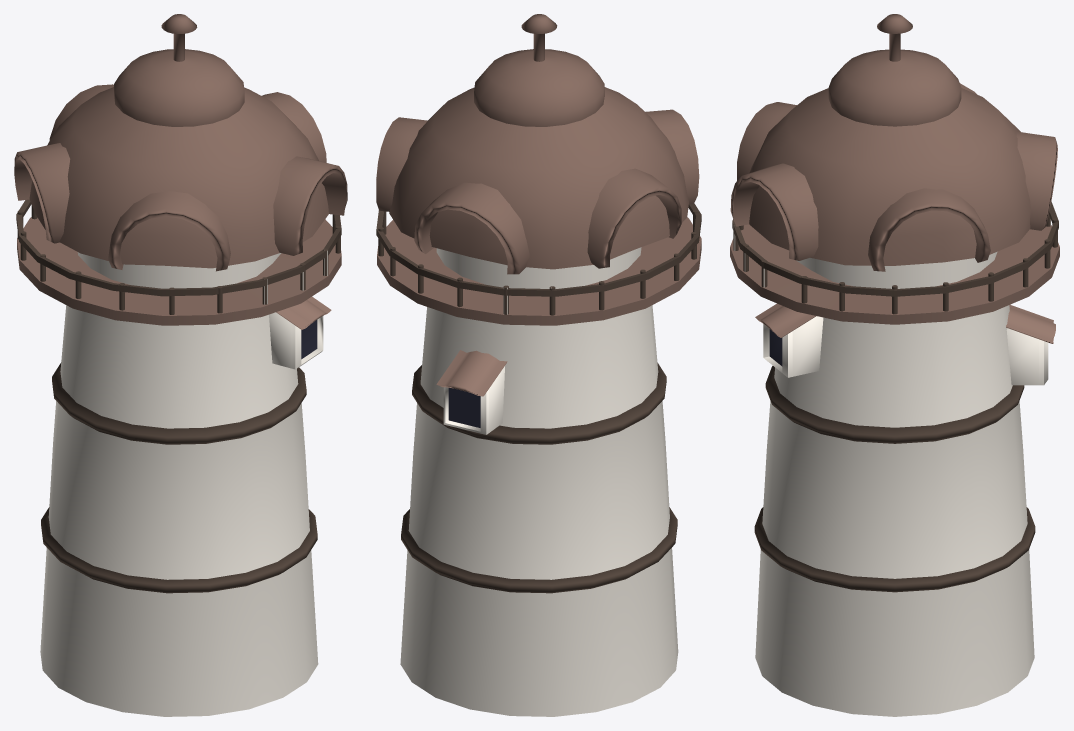
File: tower.fbx
The picture shows the model from 3 angles, left to right: view 1: azimuth 30°, elevation 25°; view 2: azimuth 150°, elevation 25°; view 3: azimuth 270°, elevation 25°; orthographic projection.
Parts seen in each view (by area): view 1: pCylinder34; view 2: pCylinder34; view 3: pCylinder34.
Part boxes in pixels (x1,y1,x2,y2): pCylinder34: (14,14,347,716); pCylinder34: (376,14,701,716); pCylinder34: (730,14,1059,716).
Bounding box in the file's own units: 3.37 × 7.29 × 3.4.
